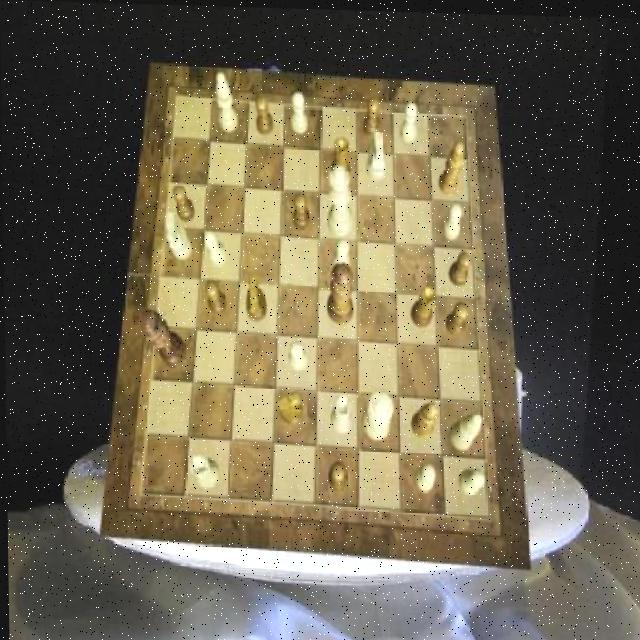bishop: (438, 138, 465, 195), (411, 399, 439, 437)
black-bishop: (140, 309, 185, 369)
black-king: (245, 275, 266, 321), (277, 390, 302, 425)
black-knight: (447, 249, 471, 284), (445, 300, 468, 335), (173, 183, 194, 221), (206, 279, 227, 315), (255, 93, 273, 134), (364, 94, 381, 135), (293, 191, 310, 228), (327, 458, 345, 489)
black-pawn: (326, 261, 354, 324)
black-queen: (409, 283, 437, 326), (329, 135, 350, 183)
black-rook: (216, 71, 239, 132), (449, 410, 483, 449)
white-bishop: (361, 387, 394, 440)
white-king: (166, 212, 191, 260), (366, 128, 386, 180)
white-knight: (204, 229, 226, 266), (442, 199, 463, 237), (400, 100, 418, 142), (290, 90, 307, 132), (458, 466, 484, 492), (288, 340, 308, 372), (330, 237, 348, 272), (414, 462, 435, 490)
white-pawn: (326, 164, 353, 237)
white-queen: (190, 452, 219, 487), (329, 392, 350, 433)
